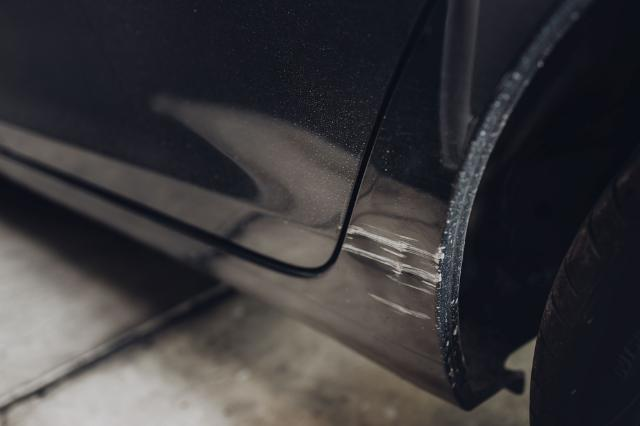scratch: (341, 218, 448, 326)
